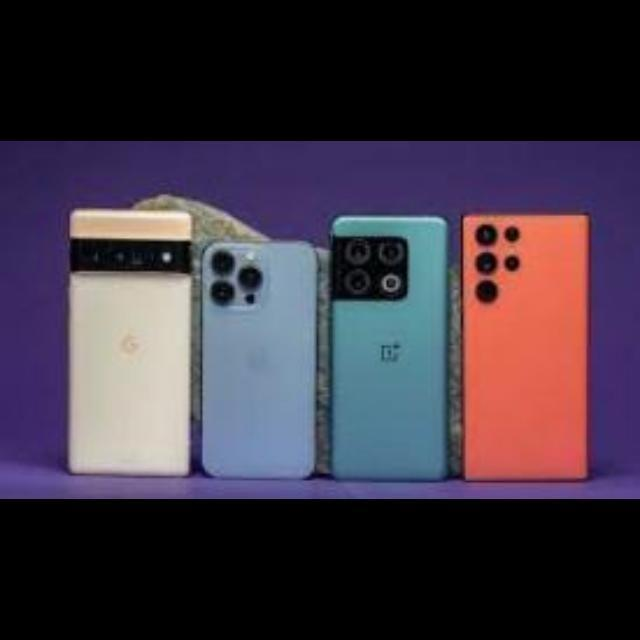phone: (449, 211, 609, 485), (73, 196, 214, 487), (322, 208, 438, 495)
